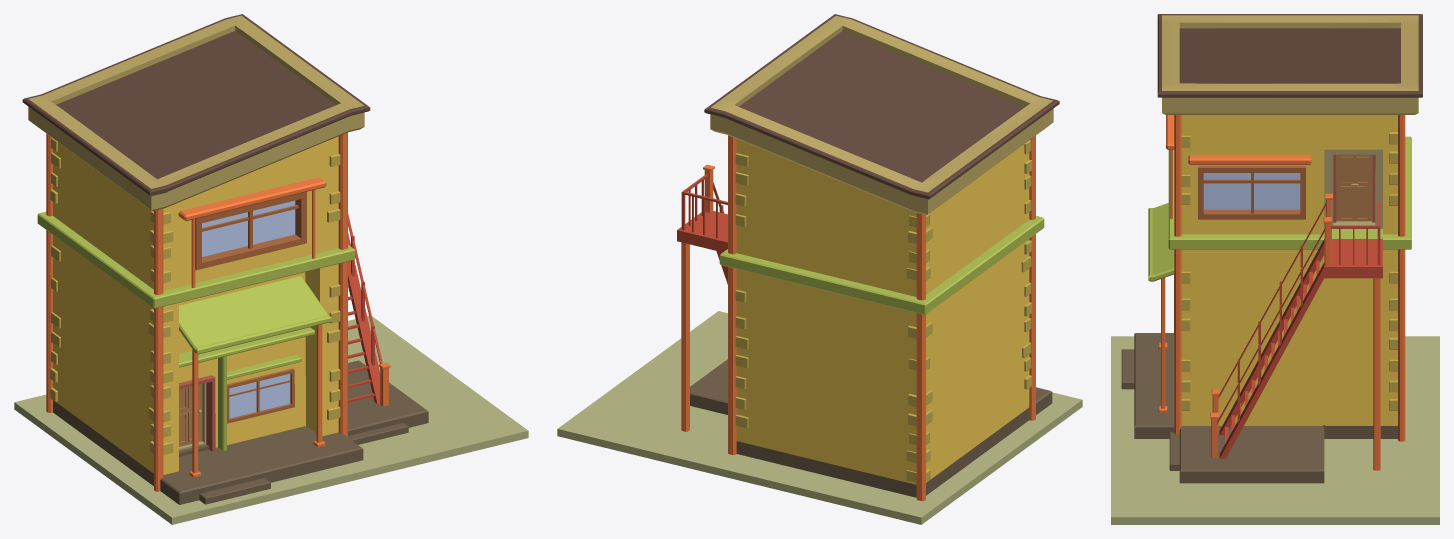
Rendered from house.gltf.
The picture shows the model from 3 angles, left to right: view 1: azimuth 30°, elevation 25°; view 2: azimuth 150°, elevation 25°; view 3: azimuth 270°, elevation 25°; orthographic projection. The views are drawn at different scales.
Visible parts, largest first — view 1: houseStanding; view 2: houseStanding; view 3: houseStanding.
Boxes of the visible parts, x1,y1,x2,y2 form: houseStanding: (14, 14, 528, 524); houseStanding: (557, 14, 1082, 524); houseStanding: (1111, 14, 1439, 524).
Size of the model in its own units: 15.27 by 14.26 by 11.71.
